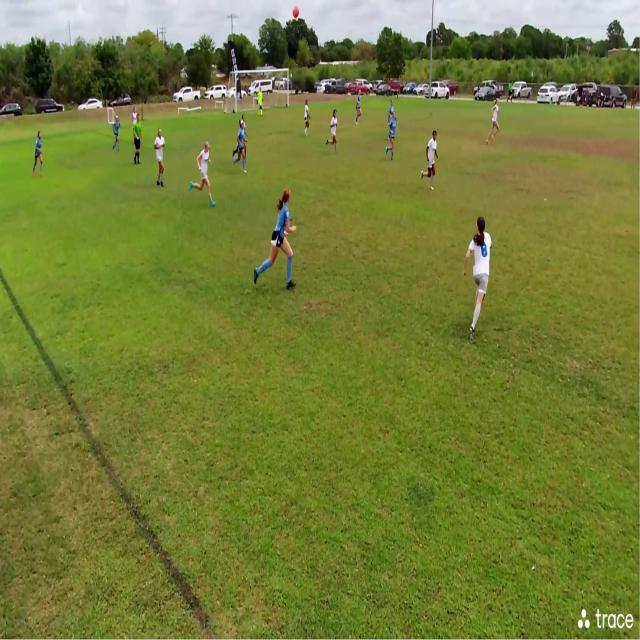ball: (291, 3, 301, 18)
team1: (258, 189, 300, 294), (234, 115, 250, 173), (388, 111, 401, 161), (32, 130, 44, 178), (114, 117, 122, 153), (388, 99, 396, 113)
team2: (466, 221, 494, 337), (194, 141, 216, 206), (423, 130, 438, 192), (155, 130, 167, 190), (488, 102, 501, 146), (330, 110, 341, 155), (355, 90, 362, 125), (304, 101, 310, 138), (132, 108, 139, 137)
